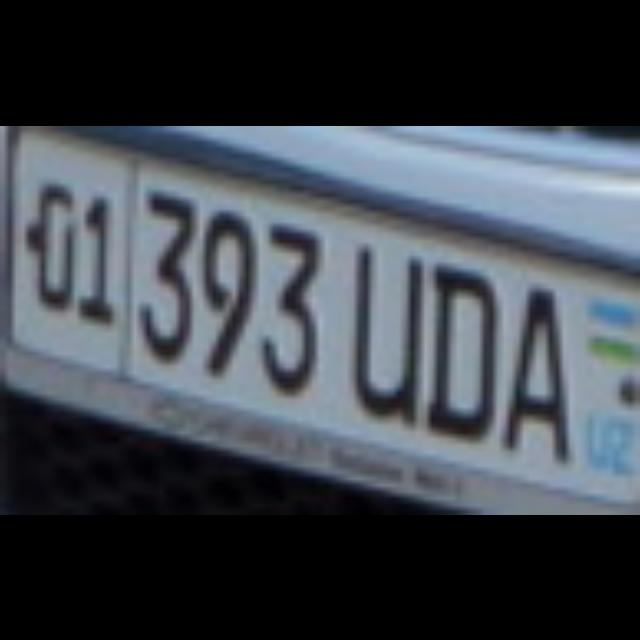0: (26, 178, 72, 302)
1: (72, 192, 112, 316)
3: (251, 217, 317, 389), (132, 184, 184, 350)
9: (192, 204, 250, 370)
A: (494, 277, 568, 455)
D: (422, 257, 488, 429)
U: (342, 244, 416, 416)
